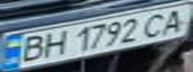1: (69, 24, 93, 53)
2: (118, 16, 148, 44)
7: (87, 20, 109, 51)
9: (103, 18, 127, 47)
A: (154, 7, 193, 35)
B: (9, 33, 51, 64)
C: (136, 10, 175, 38)
H: (36, 29, 69, 58)
